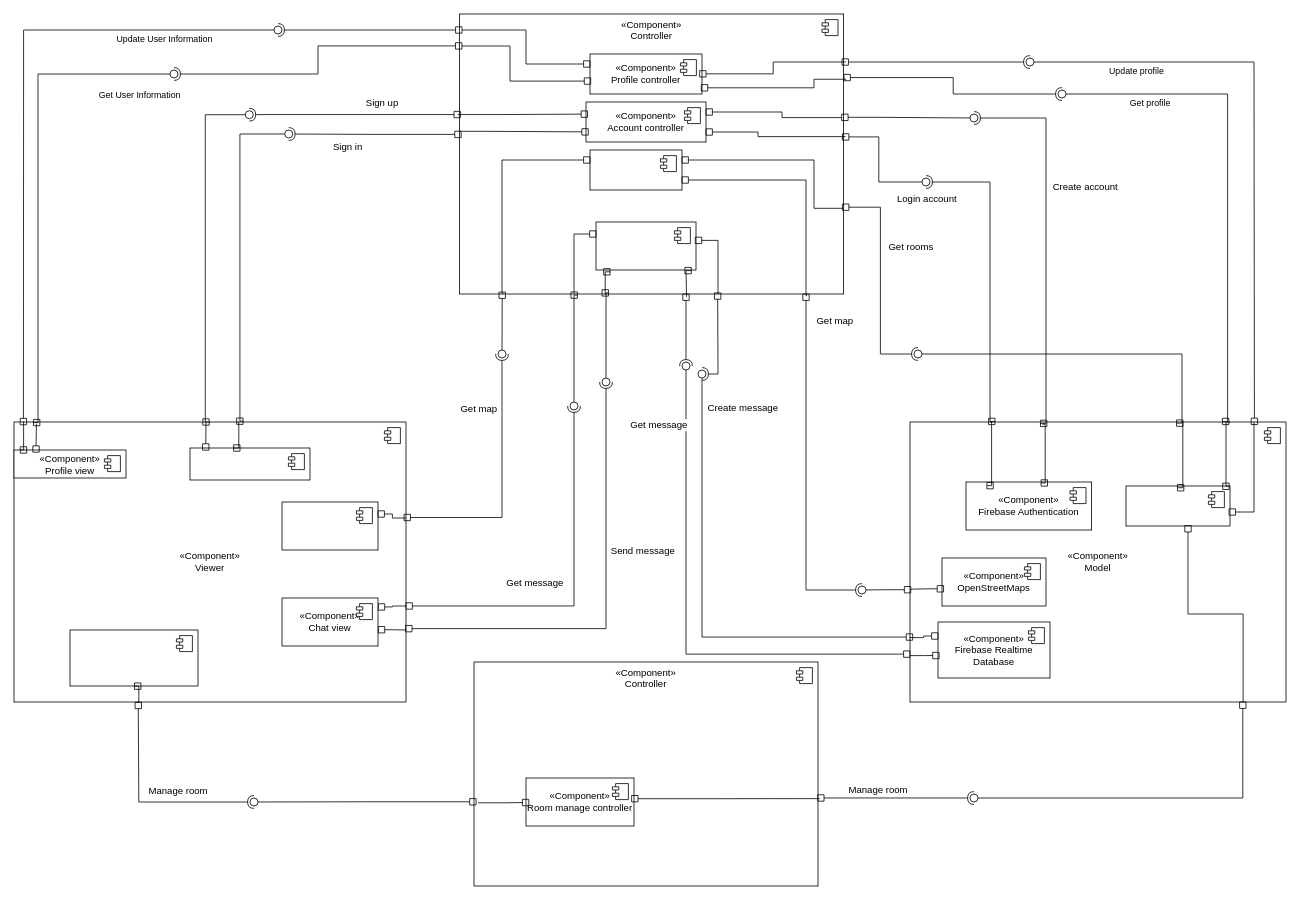
Image size: 1300x900. Some labels were removed from this diagram. The shapes that lost their labels are listed below. From the top down, each one's centre as x and y in pixels, then its label:
At [635,169]: "«Component» Map controller".
At [645,245]: "«Component» Chat controller".
At [249,463]: "«Component» Account view".
At [329,525]: "«Component» Map view".
At [1177,505]: "«Component» Firestore Database".
At [133,657]: "«Component» Room manage view".
